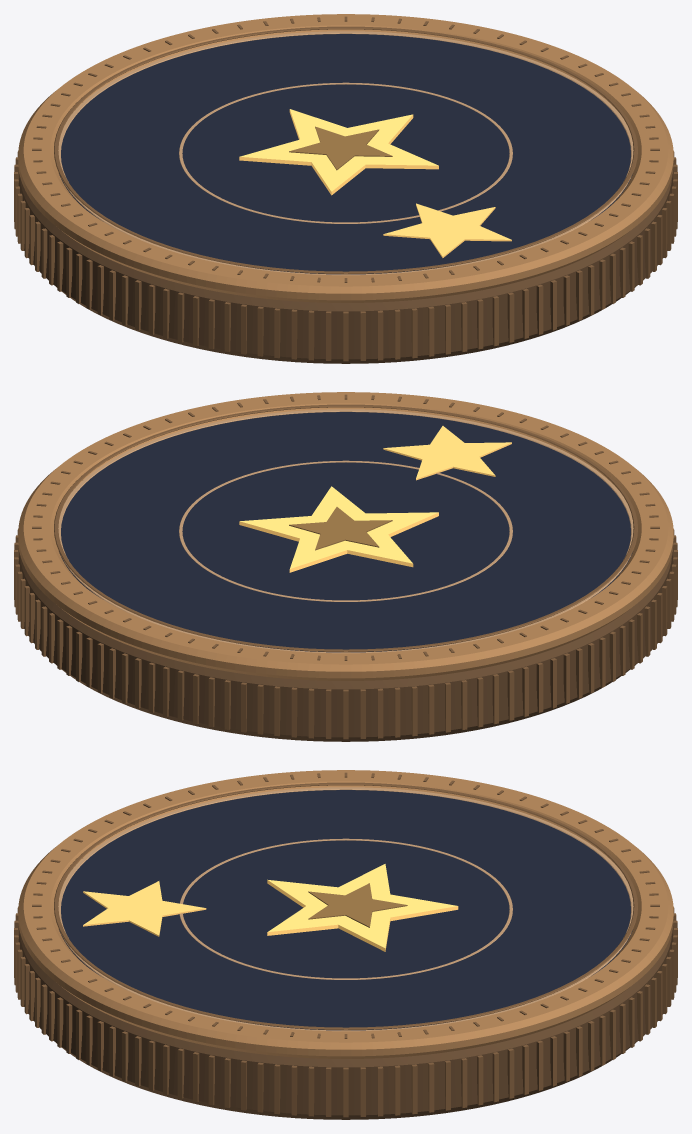
File: perfect_1.glb
The picture shows the model from 3 angles, top to bottom: view 1: azimuth 30°, elevation 25°; view 2: azimuth 150°, elevation 25°; view 3: azimuth 270°, elevation 25°; orthographic projection.
Visible parts, largest first — view 1: PB_Field, PB_RimRing, PB_Coin, PB_Reeding, PF_BigStar, PB_RimLip, PB_InnerRing, PF_Stars, PF_EmblemRing, PF_BigStarInset, PB_Ticks; view 2: PB_Field, PB_RimRing, PB_Coin, PB_Reeding, PF_BigStar, PB_RimLip, PB_InnerRing, PF_Stars, PF_EmblemRing, PF_BigStarInset, PB_Ticks; view 3: PB_Field, PB_RimRing, PB_Coin, PB_Reeding, PF_BigStar, PB_RimLip, PB_InnerRing, PF_Stars, PF_EmblemRing, PF_BigStarInset, PB_Ticks.
Part boxes in pixels (x1,y1,x2,y2): PB_Field: (59, 34, 632, 274); PB_RimRing: (18, 14, 673, 302); PB_Coin: (18, 174, 673, 363); PB_Reeding: (14, 151, 677, 361); PF_BigStar: (239, 109, 438, 195); PB_RimLip: (54, 26, 637, 274); PB_InnerRing: (58, 31, 633, 275); PF_Stars: (383, 203, 511, 257); PF_EmblemRing: (179, 82, 512, 223); PF_BigStarInset: (289, 126, 392, 170); PB_Ticks: (32, 16, 659, 282); PB_Field: (59, 412, 632, 652); PB_RimRing: (18, 392, 673, 680); PB_Coin: (18, 552, 673, 741); PB_Reeding: (14, 529, 677, 739); PF_BigStar: (239, 486, 438, 572); PB_RimLip: (54, 404, 637, 652); PB_InnerRing: (58, 409, 633, 653); PF_Stars: (383, 426, 511, 480); PF_EmblemRing: (179, 460, 512, 601); PF_BigStarInset: (289, 507, 392, 550); PB_Ticks: (32, 394, 659, 660); PB_Field: (59, 790, 632, 1030); PB_RimRing: (18, 770, 673, 1058); PB_Coin: (18, 930, 673, 1119); PB_Reeding: (14, 907, 677, 1117); PF_BigStar: (267, 864, 458, 951); PB_RimLip: (54, 782, 637, 1030); PB_InnerRing: (58, 787, 633, 1031); PF_Stars: (83, 881, 206, 936); PF_EmblemRing: (179, 838, 512, 979); PF_BigStarInset: (308, 883, 407, 927); PB_Ticks: (32, 772, 659, 1038).
Size of the model in its own units: 0.039 by 0.0051 by 0.039.
